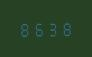eight: (18, 20, 31, 37), (60, 19, 73, 36)
six: (32, 20, 45, 37)
three: (46, 19, 59, 36)
